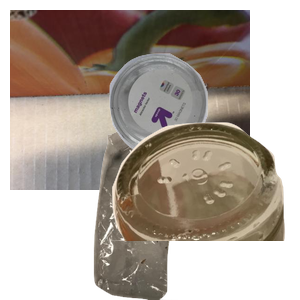cardboard: (10, 10, 250, 190)
glass: (89, 120, 300, 300)
plastic: (107, 51, 300, 199)
trash: (70, 120, 256, 300)
